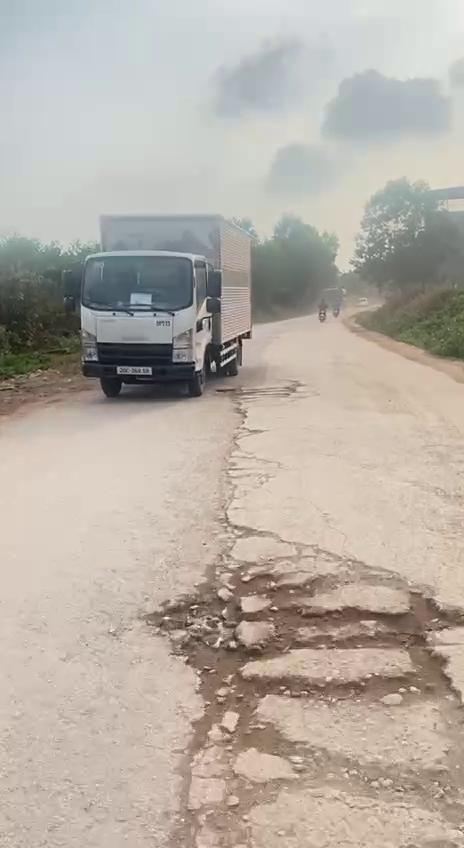pothole: (146, 538, 464, 848)
